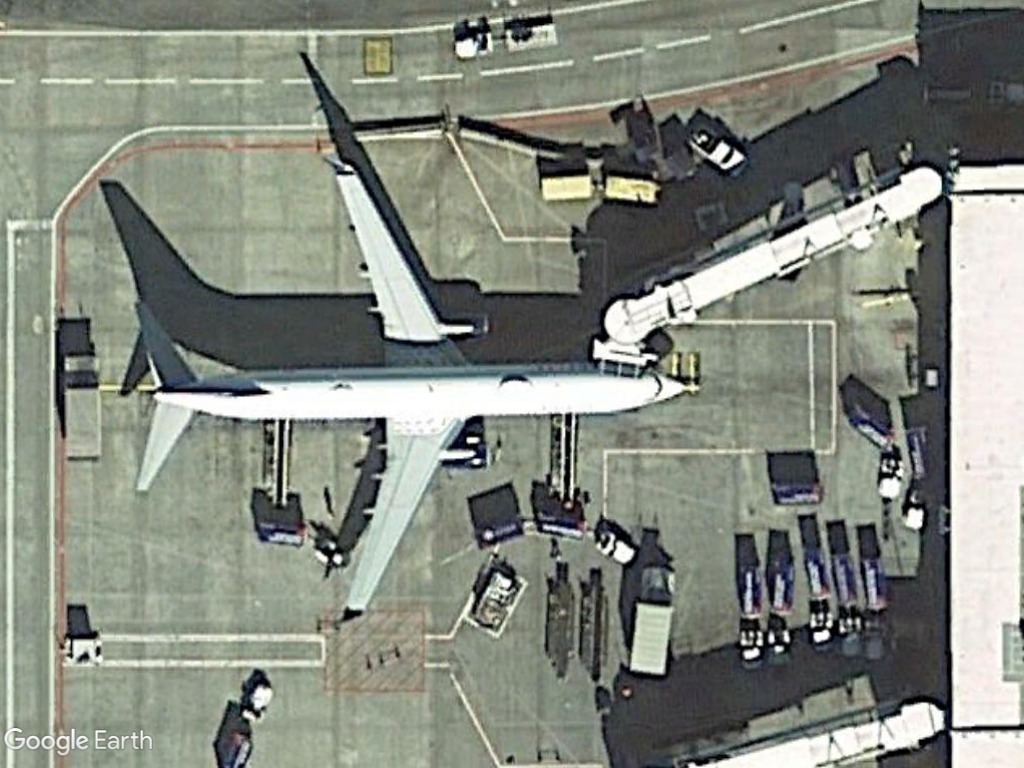airliner: (114, 156, 694, 628)
truck: (55, 345, 108, 467), (626, 563, 676, 680)
